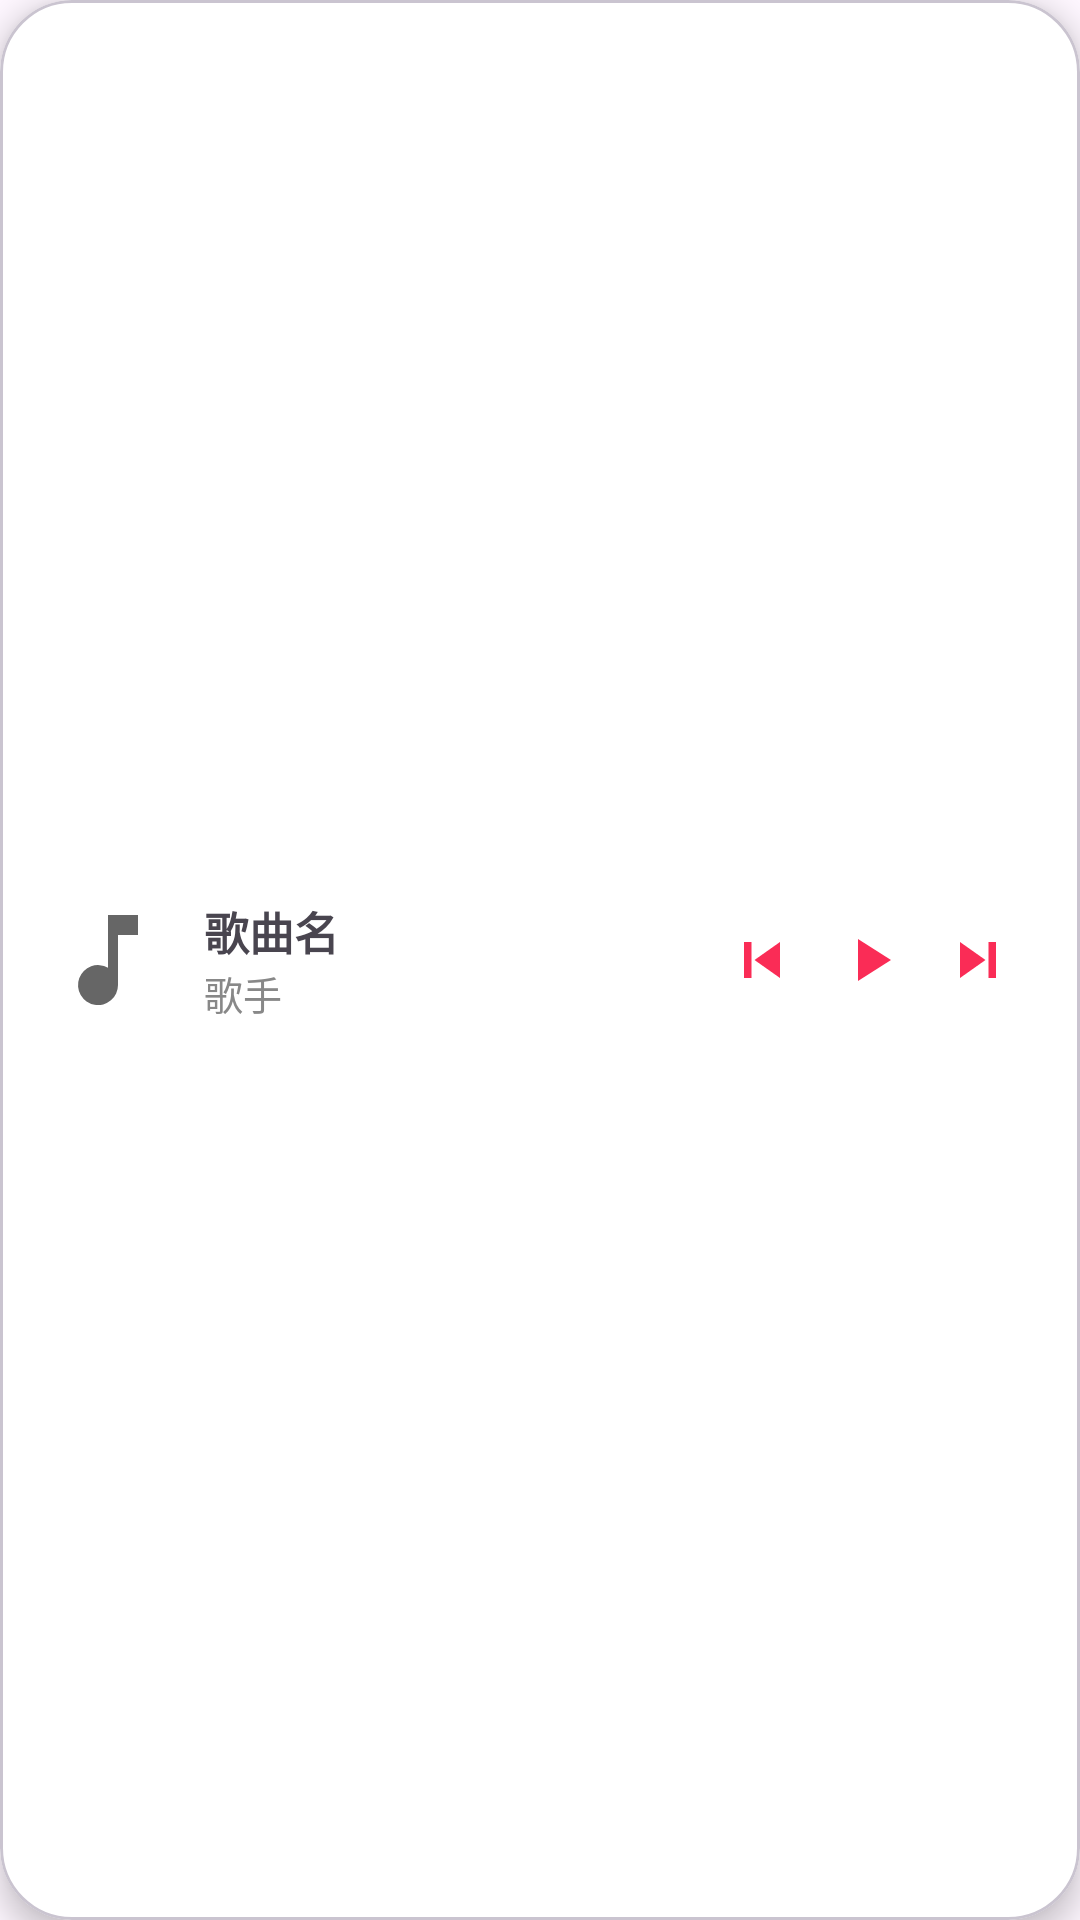

Locate icon controls on the screen. Image size 1080 × 1920, boxes as bbox=[x1, y1, x2, y2].
music note: bbox=[78, 915, 138, 1005]
上一首: bbox=[744, 942, 780, 978]
下一首: bbox=[960, 942, 996, 978]
播放/暂停: bbox=[858, 939, 891, 981]
